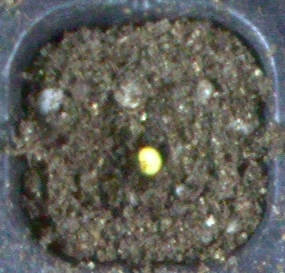pepper seed: (54, 57, 218, 234)
